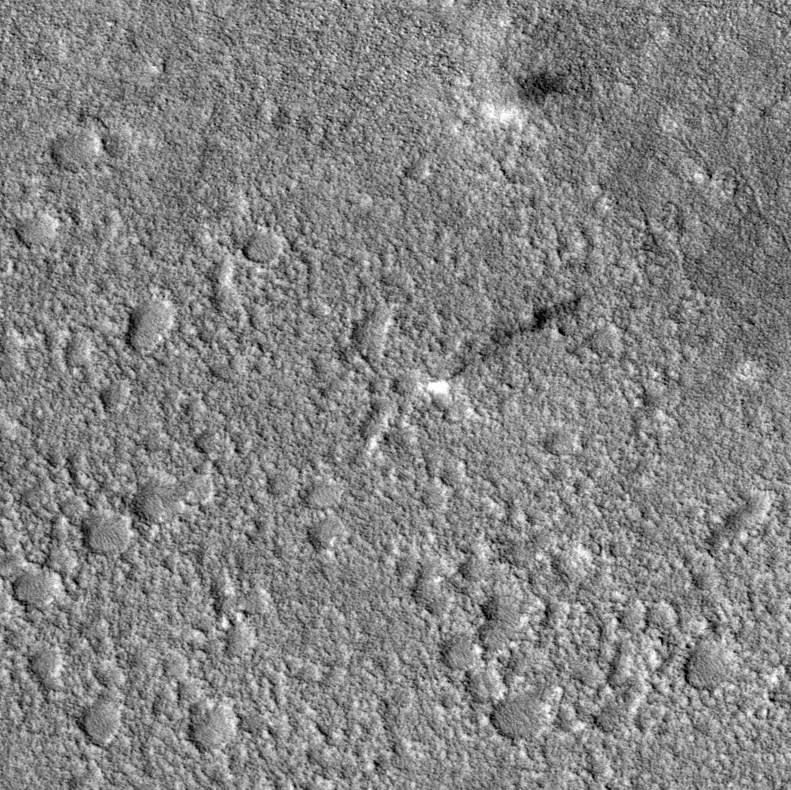dust_devil: (426, 291, 588, 396), (480, 69, 571, 131)
